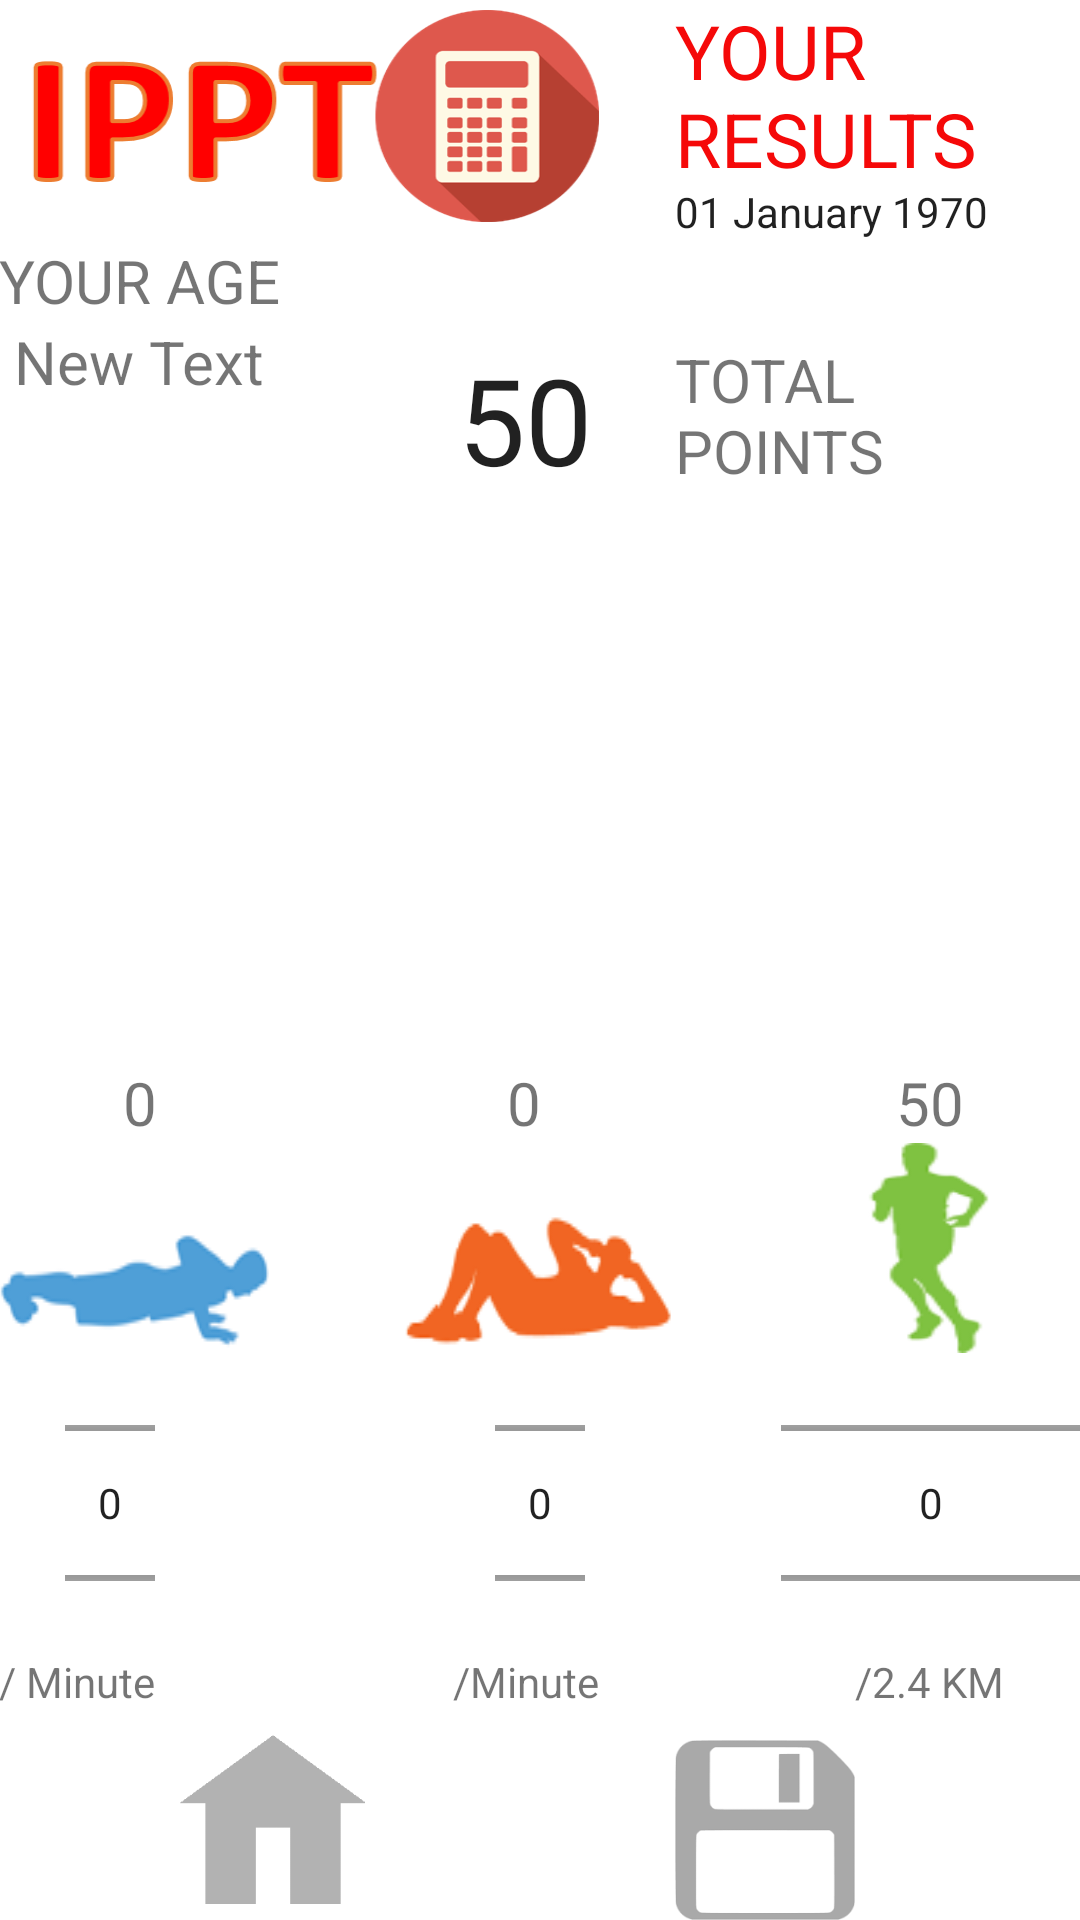

Where icons sit on this 1080 × 1920 app screen, as [left=x1, top=y1, right=x2, bottom=y2]:
home: [left=180, top=1735, right=365, bottom=1904]
pushup: [left=1, top=1235, right=269, bottom=1345]
run: [left=870, top=1143, right=988, bottom=1353]
situp: [left=406, top=1217, right=671, bottom=1344]
